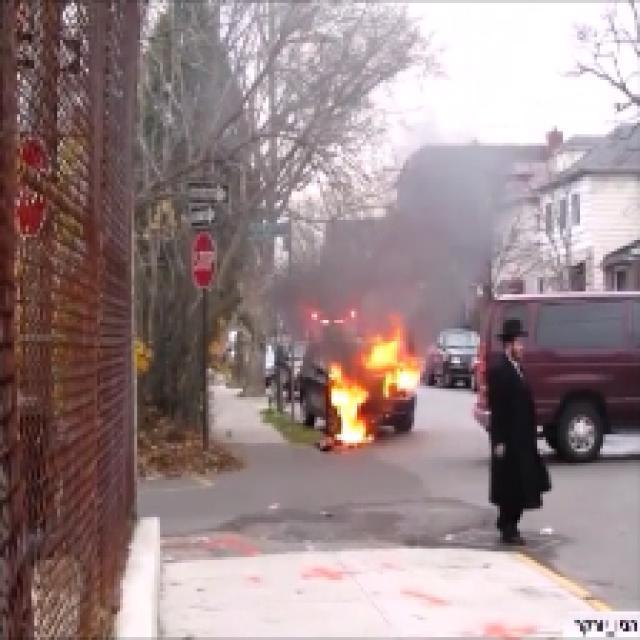Fire: (326, 343, 422, 450)
Smoke: (349, 210, 482, 314)
